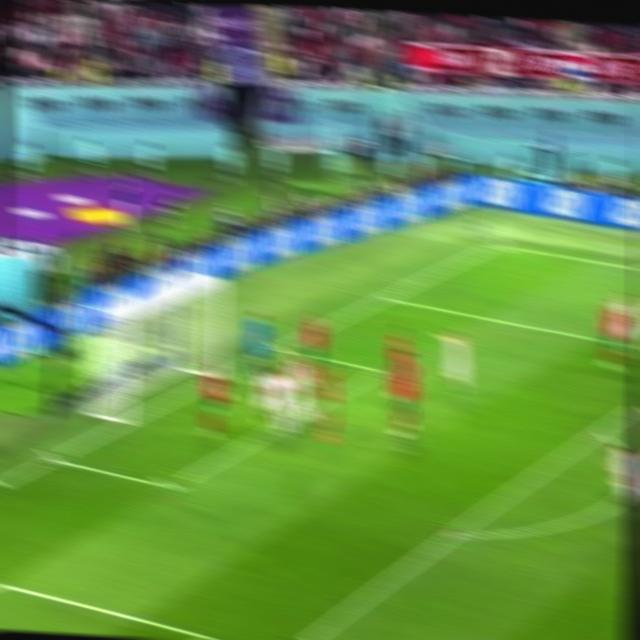bigarea_bottom_inner: (266, 636, 299, 640)
bigarea_top_outter: (373, 284, 398, 308)
bottom_arc_area_intersection: (437, 518, 467, 549)
corner: (484, 235, 511, 253)
smallarea_bottom_inner: (155, 467, 187, 504)
smallarea_bottom_outter: (39, 443, 68, 472)
smallarea_top_inner: (368, 355, 394, 383)
smallarea_top_outter: (267, 334, 292, 358)
top_arc_area_intersection: (587, 417, 614, 443)
